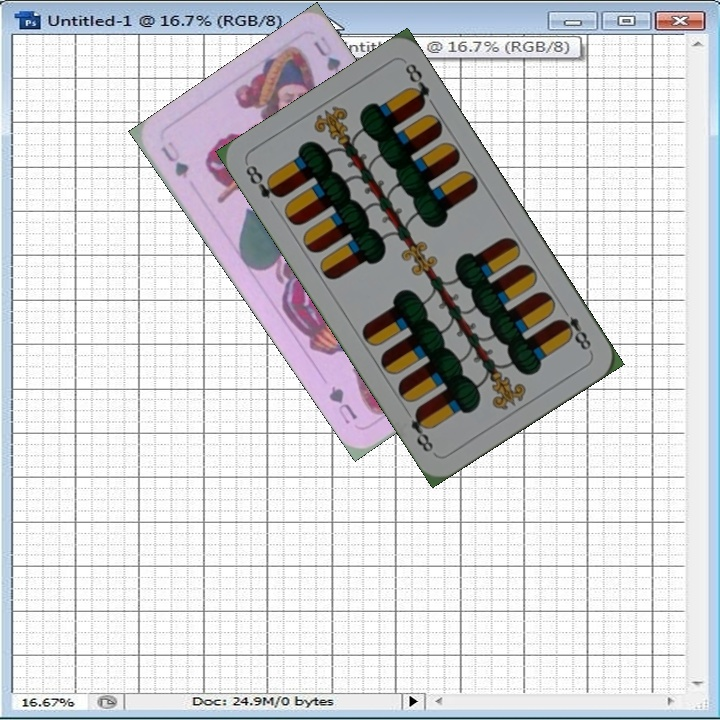E8: (554, 302, 594, 353), (241, 160, 285, 202)
GU: (156, 137, 192, 181)
